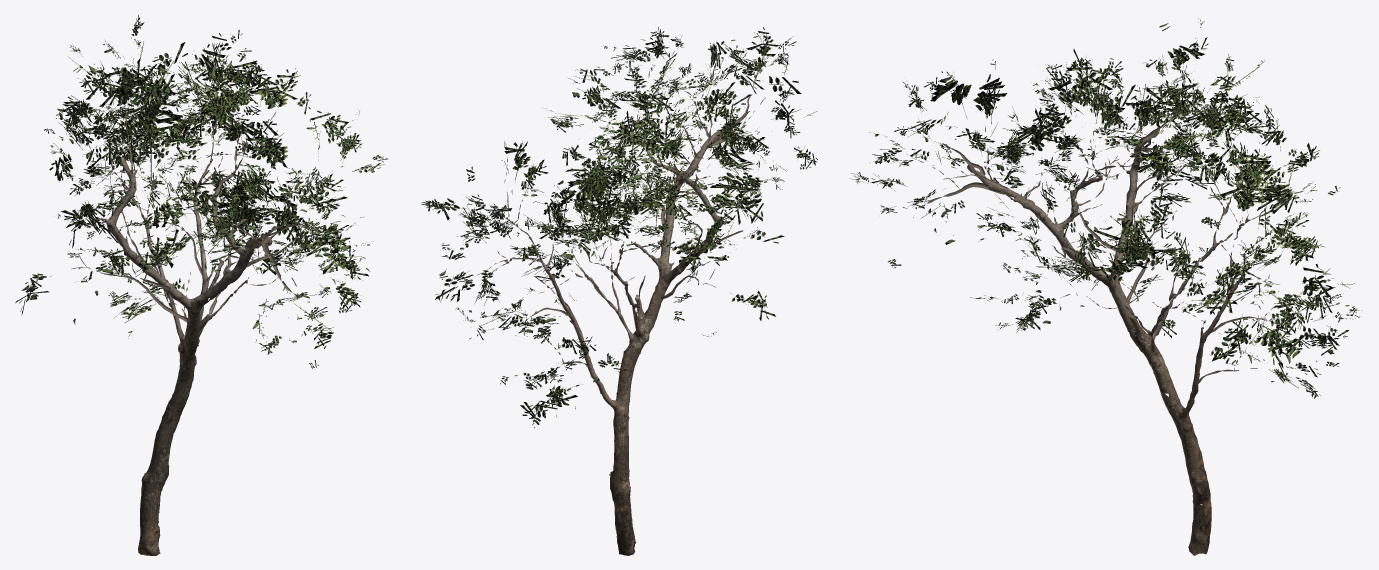
File: pequena.glb
3 views of the same model, side by side, from view 1: azimuth 30°, elevation 25°; view 2: azimuth 150°, elevation 25°; view 3: azimuth 270°, elevation 25° (orthographic). The views are drawn at different scales.
Visible parts, largest first — view 1: pequena; view 2: pequena; view 3: pequena.
Boxes of the visible parts, <box> form: pequena: <box>15,15,387,555</box>; pequena: <box>421,27,817,555</box>; pequena: <box>849,18,1362,555</box>.
Bounding box in the file's own units: 2.99 × 4.57 × 4.26.
3 materials, 3 textured.
